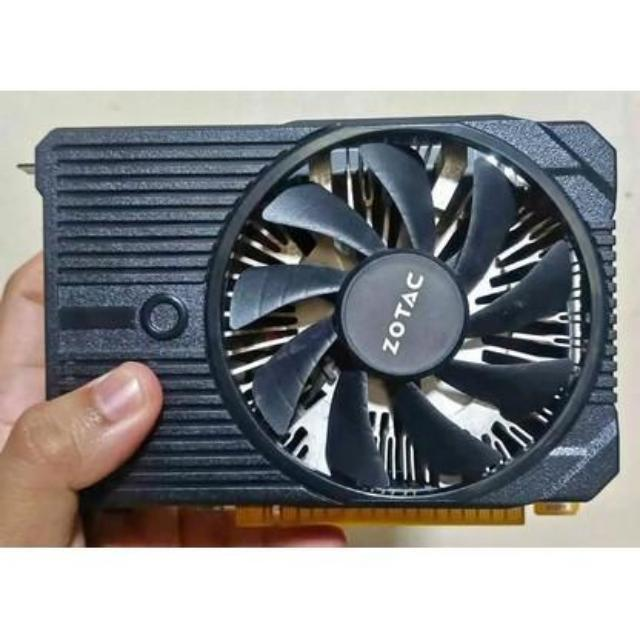GPU: (39, 113, 614, 519)
